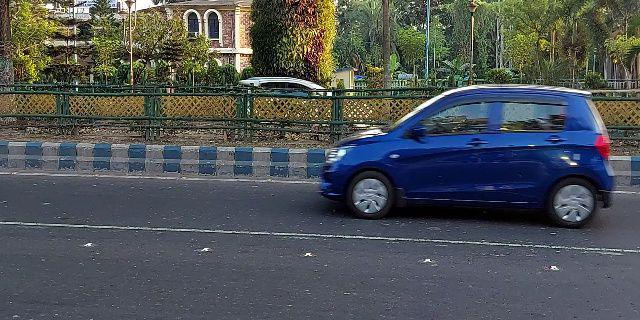Car: (317, 81, 616, 233)
